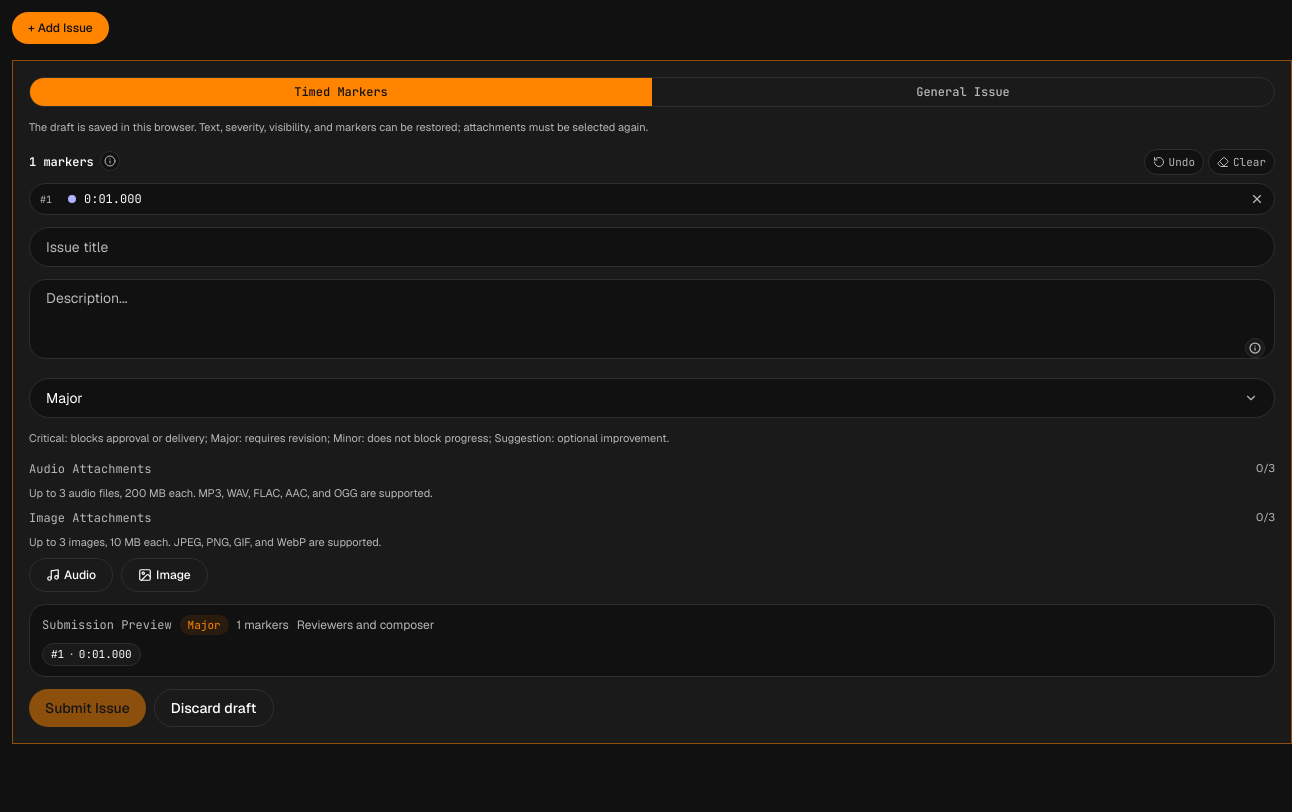
Scenario: IssueCreatePanel › inserts @issue:N into the description when picking from the issue mention popover
Type "Compare @i" into the text box with placeholder "Description..." at (652, 319), box [29, 279, 1275, 359]
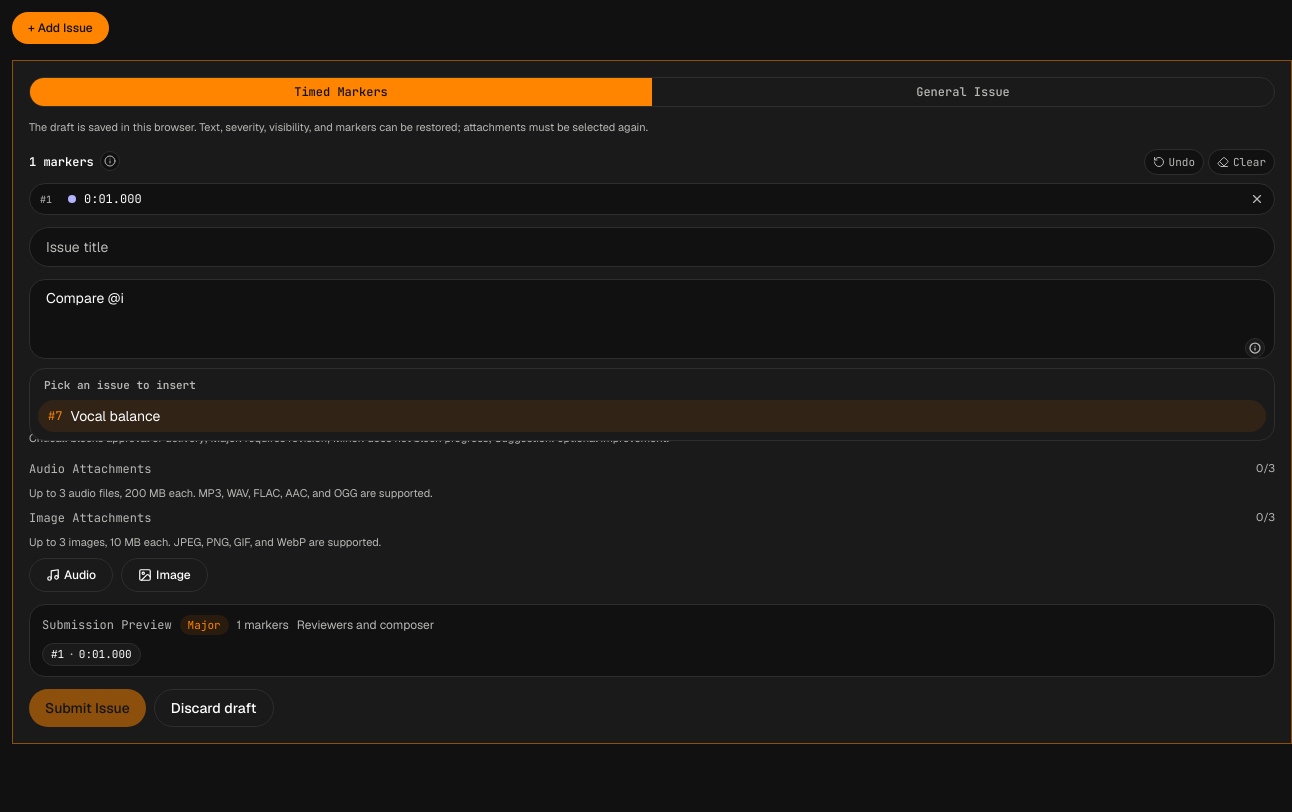
Now the number of options is 1
Now the option "#7 Vocal balance" is shown
Press the mouse on the option "#7 Vocal balance" at (115, 416), box [38, 400, 1266, 432]
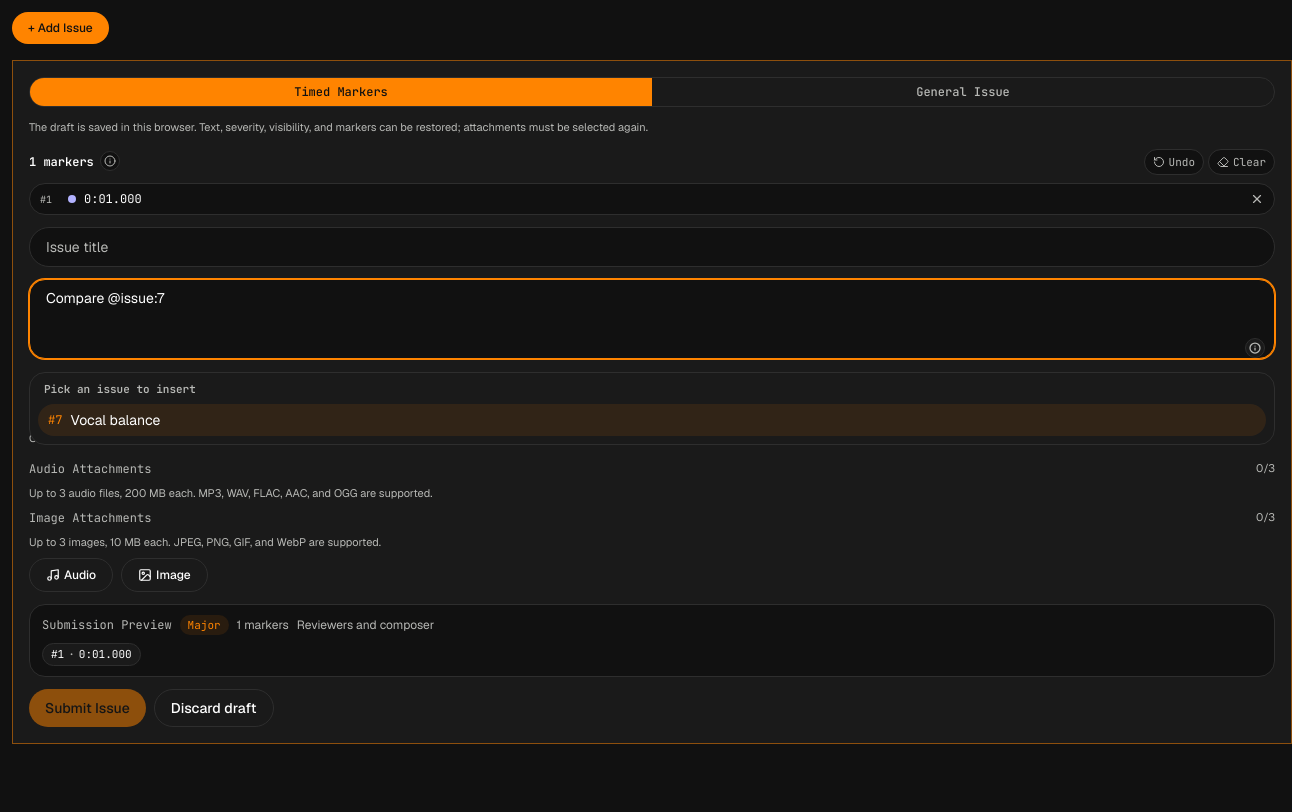
Now the text box holds "Compare @issue:7 ", box [29, 279, 1275, 359]
